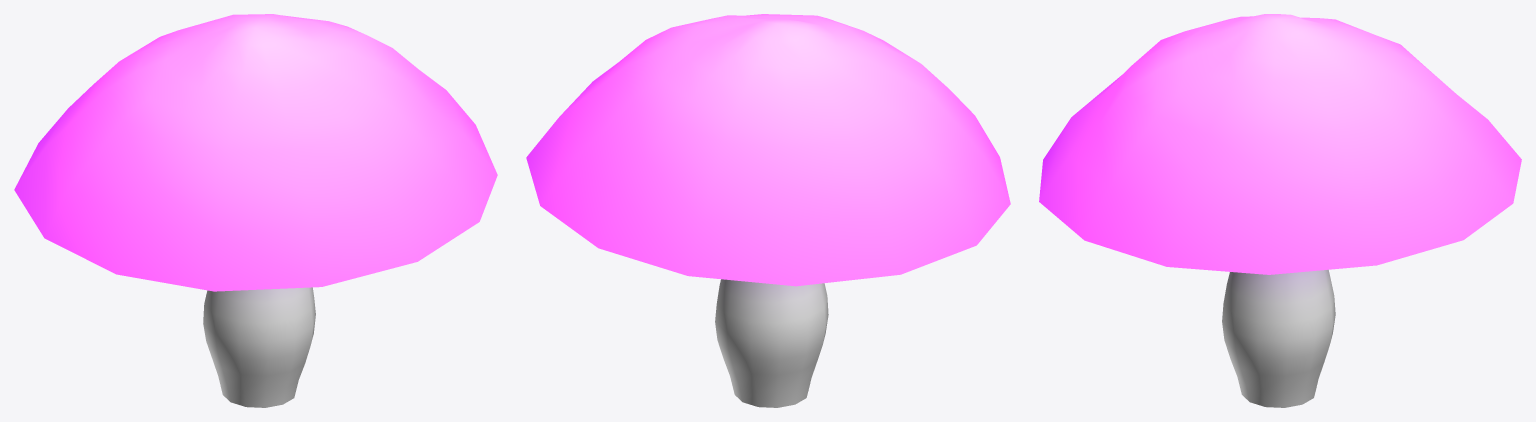
File: mushroom_3.glb
3 views of the same model, side by side, from view 1: azimuth 30°, elevation 25°; view 2: azimuth 150°, elevation 25°; view 3: azimuth 270°, elevation 25° (orthographic).
Visible parts, largest first — view 1: geo1; view 2: geo1; view 3: geo1.
Part boxes in pixels (x1=…): geo1: x1=14, y1=14, x2=497, y2=407; geo1: x1=526, y1=14, x2=1010, y2=407; geo1: x1=1039, y1=14, x2=1521, y2=407.
Bounding box in the file's own units: 0.3606 × 0.3003 × 0.3555.
